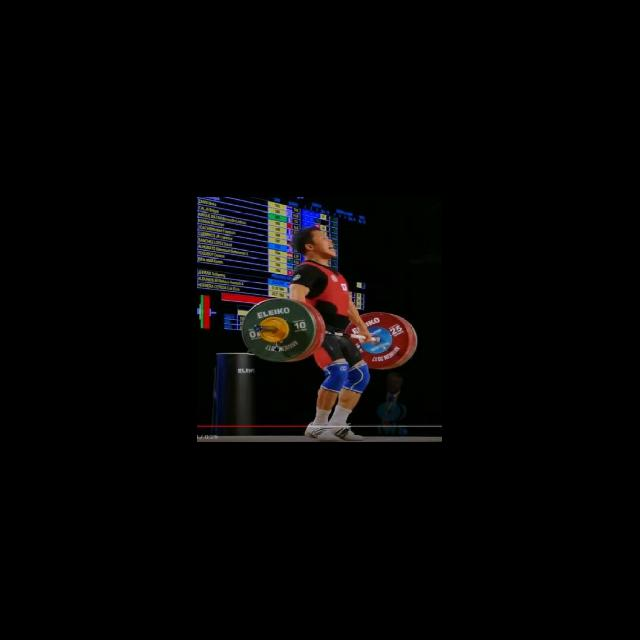barbell: (241, 293, 316, 365)
